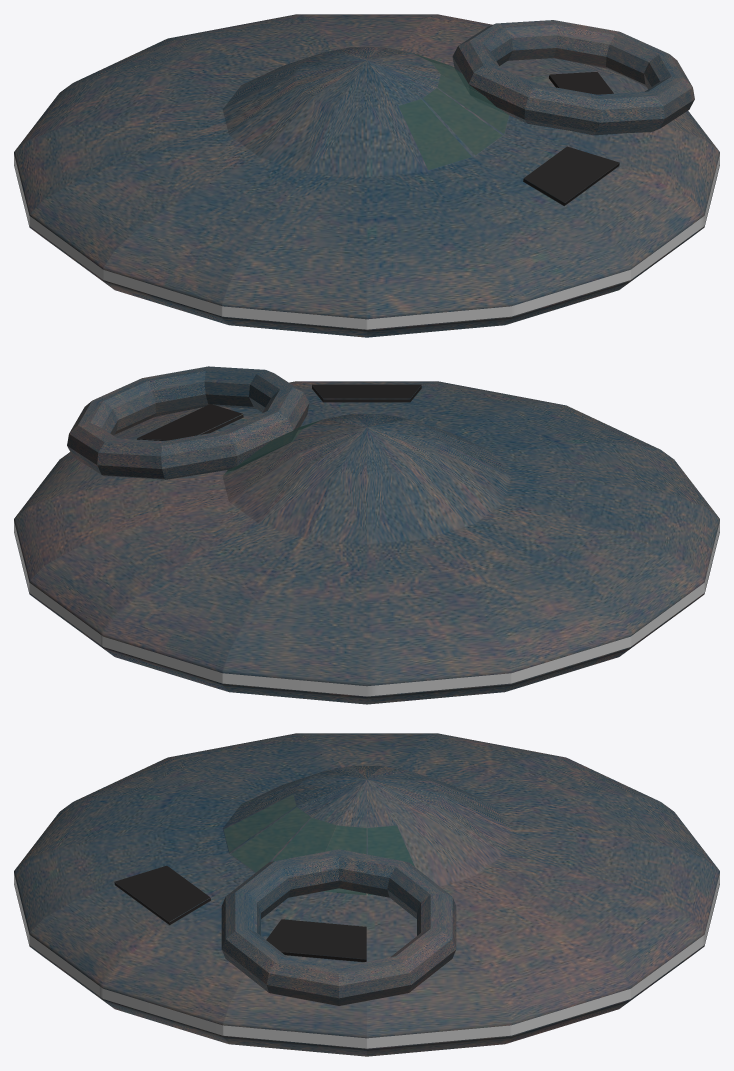
File: ufo_fbx.fbx
3 renders of one model, top to bottom at view 1: azimuth 30°, elevation 25°; view 2: azimuth 150°, elevation 25°; view 3: azimuth 270°, elevation 25°, orthographic.
Parts seen in each view (by area): view 1: pSphere1, pTorus1; view 2: pSphere1, pTorus1; view 3: pSphere1, pTorus1.
Boxes of the visible parts, x1,y1,x2,y2 form: pSphere1: [14, 14, 719, 337]; pTorus1: [452, 20, 694, 135]; pSphere1: [14, 381, 719, 704]; pTorus1: [67, 366, 309, 479]; pSphere1: [14, 733, 719, 1056]; pTorus1: [221, 849, 456, 1005].
Size of the model in its own units: 1142 by 393 by 1148.
